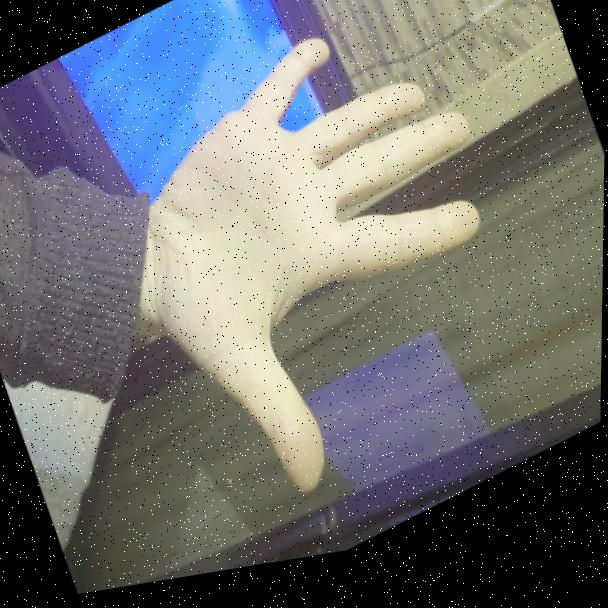five: (96, 0, 558, 549)
